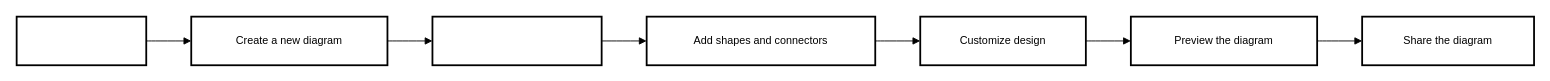
Image size: 1550x81. Some labels were removed from this diagram. Each missing label, with the centre of its shape:
Select a template: [516,40]
Use Draw.io: [81,40]
